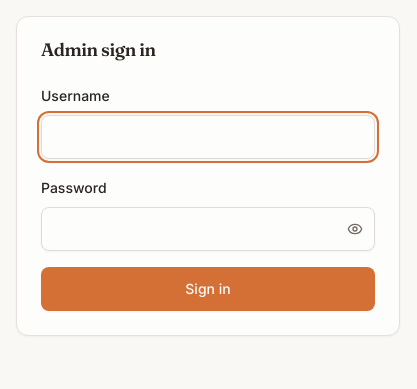
it: AdminLogin — every failure mode says something actionable › F13: a 503 explains that admin is not configured
In the field labelled "Username": (208, 137) [41,115,375,159], type "admin"
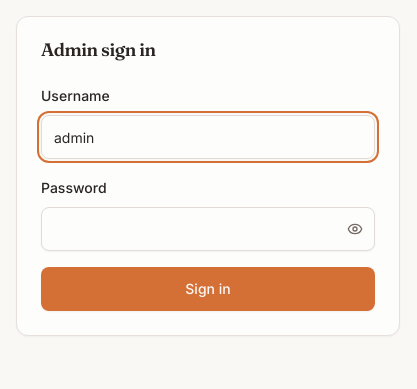
In the password field labelled "Password": (208, 229) [41,207,375,251], type "s3cret"
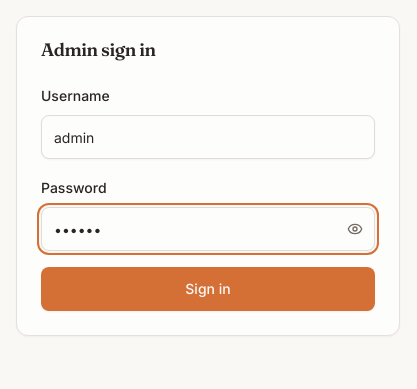
Click the button "Sign in": (208, 289) [41,267,375,311]
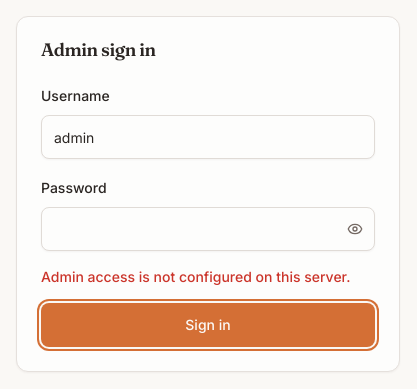
Result: the message shows "not configured" at [41,268,350,285]
